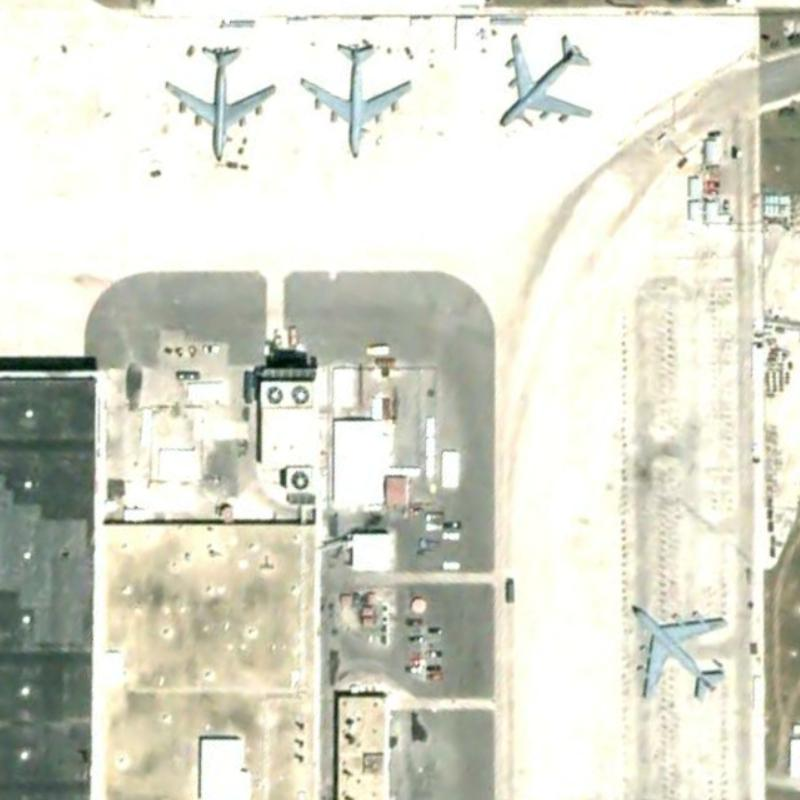A14: (156, 33, 279, 167), (291, 34, 415, 160), (619, 597, 731, 707), (494, 28, 600, 132)
